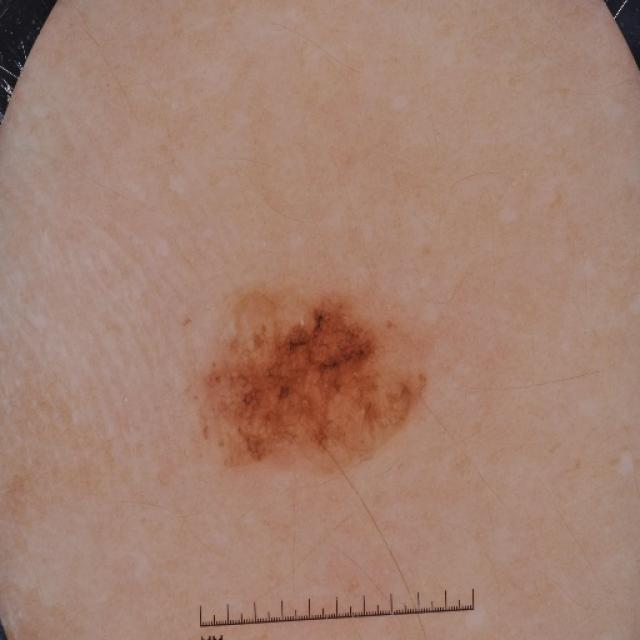Melanoma: (195, 286, 425, 455)
